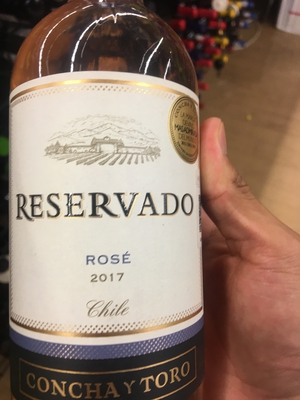reservado rose: (7, 20, 211, 400)
